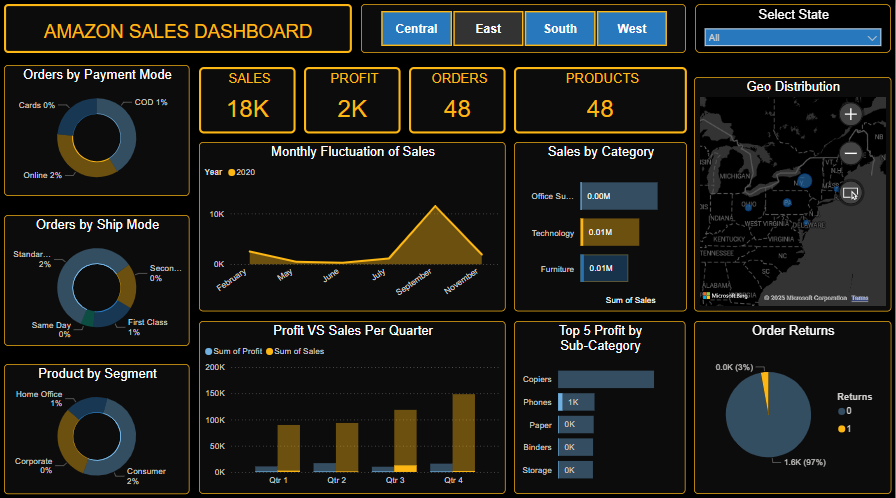

What the dashboard file says about the page in this screenshot:
{"tool":"powerbi","page":{"name":"Page 1","canvas":[1280,720],"ordinal":0},"visuals":[{"type":"clusteredBarChart","title":"Sales by Category","fields":{"Category":["Sheet1.Category"],"Y":["Sum(Sheet1.Sales)"]},"box":[735,203.3,246.7,241.7],"z":0},{"type":"clusteredBarChart","title":"Top 5 Profit by Sub-Category","fields":{"Y":["Sum(Sheet1.Profit)"],"Category":["Sheet1.Sub-Category"]},"box":[735,458.3,245,246.7],"z":1000},{"type":"donutChart","title":"Orders by Payment Mode","fields":{"Category":["Sheet1.Payment Mode"],"Y":["CountNonNull(Sheet1.Order ID)"]},"box":[6.7,93.3,265,186.7],"z":2000},{"type":"donutChart","title":"Orders by Ship Mode","fields":{"Y":["CountNonNull(Sheet1.Order ID)"],"Category":["Sheet1.Ship Mode"]},"box":[6.7,306.7,265,186.7],"z":3000},{"type":"donutChart","title":"Product by Segment","fields":{"Category":["Sheet1.Segment"],"Y":["CountNonNull(Sheet1.Product ID)"]},"box":[7.1,520.2,265,185.7],"z":4000},{"type":"map","title":"Geo Distribution","fields":{"Category":["Sheet1.State"],"Size":["Sum(Sheet1.Sales)"]},"box":[993.3,110,281.7,335],"z":5000},{"type":"pieChart","title":"Order Returns","fields":{"Category":["Sheet1.Returns"],"Y":["CountNonNull(Sheet1.Order ID)"]},"box":[993.3,458.3,281.7,246.7],"z":6000},{"type":"stackedAreaChart","title":"Monthly Fluctuation of Sales","fields":{"Category":["Sheet1.Order Date.Variation.Date Hierarchy.Month"],"Y":["Sum(Sheet1.Sales)"],"Series":["Sheet1.Order Date.Variation.Date Hierarchy.Year"]},"box":[285,203.3,438.3,241.7],"z":7000},{"type":"clusteredColumnChart","title":"Profit VS Sales Per Quarter","fields":{"Category":["Sheet1.Order Date.Variation.Date Hierarchy.Quarter"],"Y":["Sum(Sheet1.Profit)","Sum(Sheet1.Sales)"]},"box":[285,458.3,438.3,246.7],"z":8000},{"type":"slicer","fields":{"Values":["Sheet1.Region"]},"box":[517.1,5.7,464.3,70],"z":9000},{"type":"slicer","title":"Select State","fields":{"Values":["Sheet1.State"]},"box":[994,5.3,280,70],"z":10000},{"type":"card","title":"SALES","fields":{"Values":["Sum(Sheet1.Sales)"]},"box":[285,95,138.3,95],"z":11000},{"type":"card","title":"PROFIT","fields":{"Values":["Sum(Sheet1.Profit)"]},"box":[435,95,138.3,95],"z":12000},{"type":"card","title":"ORDERS","fields":{"Values":["CountNonNull(Sheet1.Order ID)"]},"box":[585,95,138.3,95],"z":13000},{"type":"card","title":"PRODUCTS","fields":{"Values":["Count(Sheet1.Product ID)"]},"box":[735,95,246.7,95],"z":14000},{"type":"textbox","box":[7.1,5.7,497.1,70],"z":15000}]}

Visuals, with their boxes in screenshot pixels (x1, y1, x2, y2), scaled from the page's 1280x720 canvas onto the 896x498 screenshot:
"Sales by Category" clusteredBarChart: crop(514, 141, 687, 308)
"Top 5 Profit by Sub-Category" clusteredBarChart: crop(514, 317, 686, 488)
"Orders by Payment Mode" donutChart: crop(5, 65, 190, 194)
"Orders by Ship Mode" donutChart: crop(5, 212, 190, 341)
"Product by Segment" donutChart: crop(5, 360, 190, 488)
"Geo Distribution" map: crop(695, 76, 892, 308)
"Order Returns" pieChart: crop(695, 317, 892, 488)
"Monthly Fluctuation of Sales" stackedAreaChart: crop(200, 141, 506, 308)
"Profit VS Sales Per Quarter" clusteredColumnChart: crop(200, 317, 506, 488)
slicer - Sheet1.Region: crop(362, 4, 687, 52)
"Select State" slicer: crop(696, 4, 892, 52)
"SALES" card: crop(200, 66, 296, 131)
"PROFIT" card: crop(304, 66, 401, 131)
"ORDERS" card: crop(410, 66, 506, 131)
"PRODUCTS" card: crop(514, 66, 687, 131)
textbox: crop(5, 4, 353, 52)
